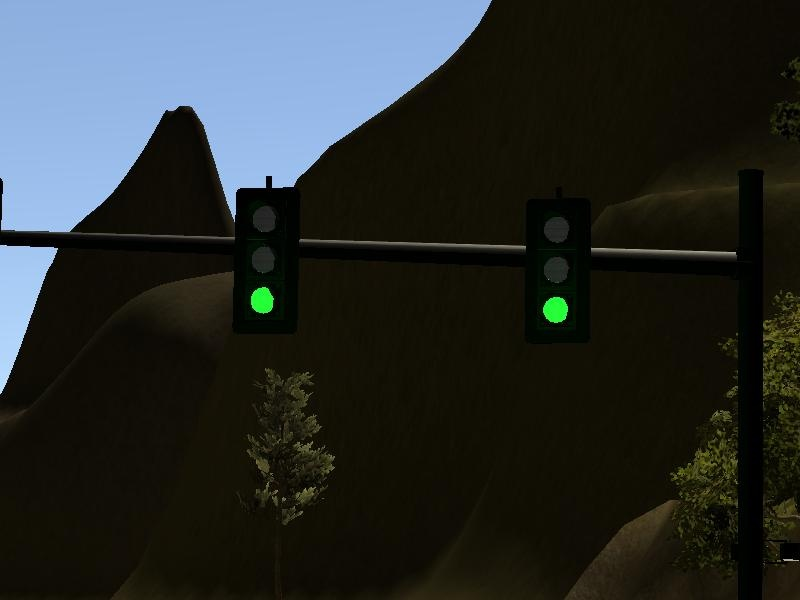green: (232, 184, 306, 335), (517, 193, 591, 343)
